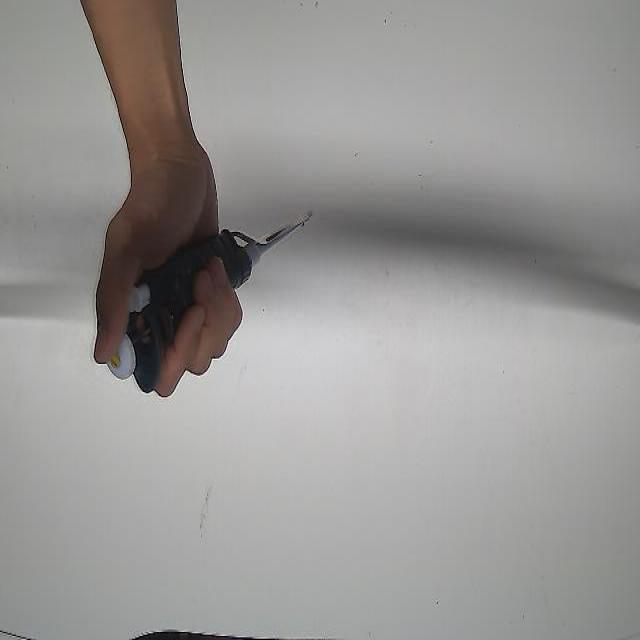Single Channel Pipettor: (104, 207, 318, 400)
